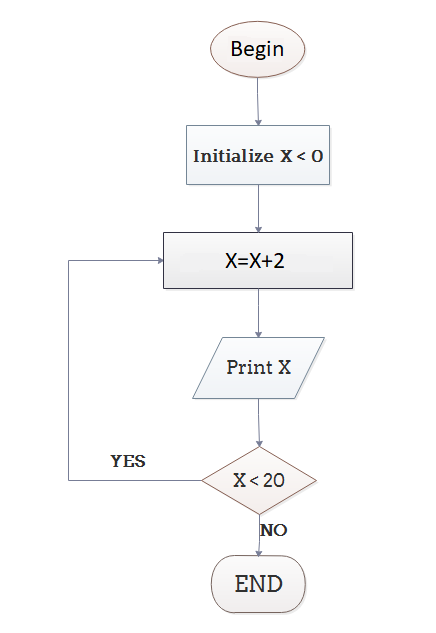arrow: (64, 254, 202, 485), (251, 287, 266, 338), (251, 78, 266, 126), (253, 513, 267, 558), (253, 398, 265, 449), (252, 186, 263, 230)
data: (192, 335, 325, 397)
decision: (201, 446, 319, 512)
process: (161, 229, 355, 292), (182, 122, 334, 186)
terminator: (208, 553, 308, 614), (209, 19, 308, 78)
text: (188, 146, 323, 164), (222, 356, 294, 377), (233, 570, 283, 597), (221, 250, 286, 270), (228, 36, 284, 59), (228, 470, 286, 490), (107, 452, 146, 469), (259, 519, 290, 537)
